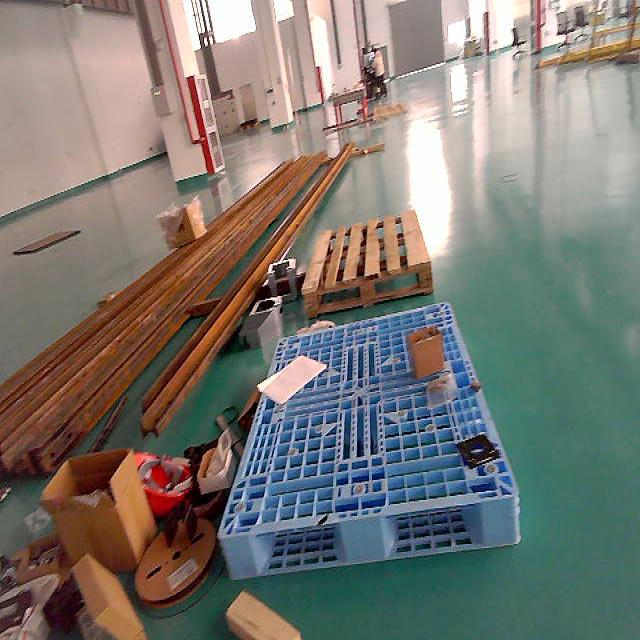euro: (301, 209, 432, 316)
